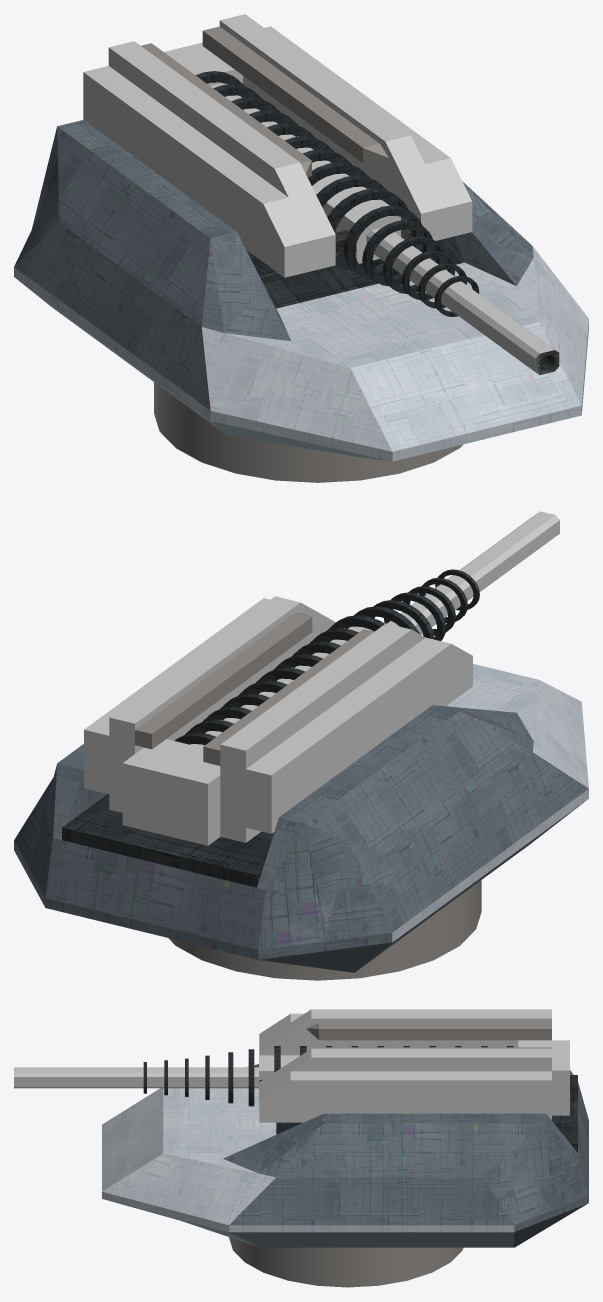
File: 磁暴[武器]贴图版.fbx
3 views of the same model, one above another, from view 1: azimuth 30°, elevation 25°; view 2: azimuth 150°, elevation 25°; view 3: azimuth 270°, elevation 25° (orthographic). The views are drawn at different scales.
Parts seen in each view (by area): view 1: Group23, Group20, Group3, Group22, Group24, Group16, Group17, Group15, Group14, Group4, Group13, Group5 (+1 smaller); view 2: Group23, Group20, Group3, Group22, Group24, Group14, Group15, Group16; view 3: Group23, Group22, Group3, Group24, Group20, Group16.
Part boxes in pixels (x1,y1,x2,y2): Group23: [14, 119, 588, 461]; Group20: [83, 41, 335, 277]; Group3: [141, 26, 559, 374]; Group22: [219, 14, 472, 240]; Group24: [154, 382, 463, 482]; Group16: [343, 205, 422, 279]; Group17: [327, 188, 408, 270]; Group15: [362, 220, 433, 285]; Group14: [382, 236, 444, 293]; Group4: [316, 175, 392, 257]; Group13: [401, 250, 454, 299]; Group5: [307, 162, 369, 188]; Group23: [14, 663, 588, 972]; Group20: [220, 623, 472, 842]; Group3: [122, 511, 559, 845]; Group22: [84, 596, 335, 812]; Group24: [168, 880, 481, 980]; Group14: [384, 592, 446, 640]; Group15: [370, 600, 434, 639]; Group16: [345, 606, 419, 633]; Group23: [102, 1064, 588, 1247]; Group22: [259, 1048, 551, 1122]; Group3: [14, 1023, 569, 1115]; Group24: [229, 1237, 463, 1287]; Group20: [259, 1009, 551, 1055]; Group16: [248, 1049, 254, 1106].
Size of the model in its own units: 2 by 1.42 by 3.62.
